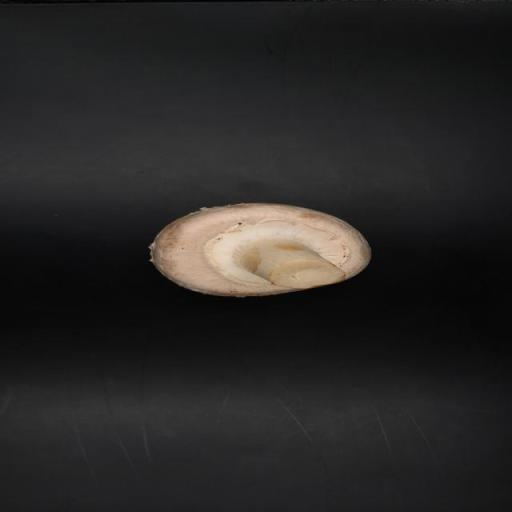Button Mushroom: (145, 196, 374, 305)
